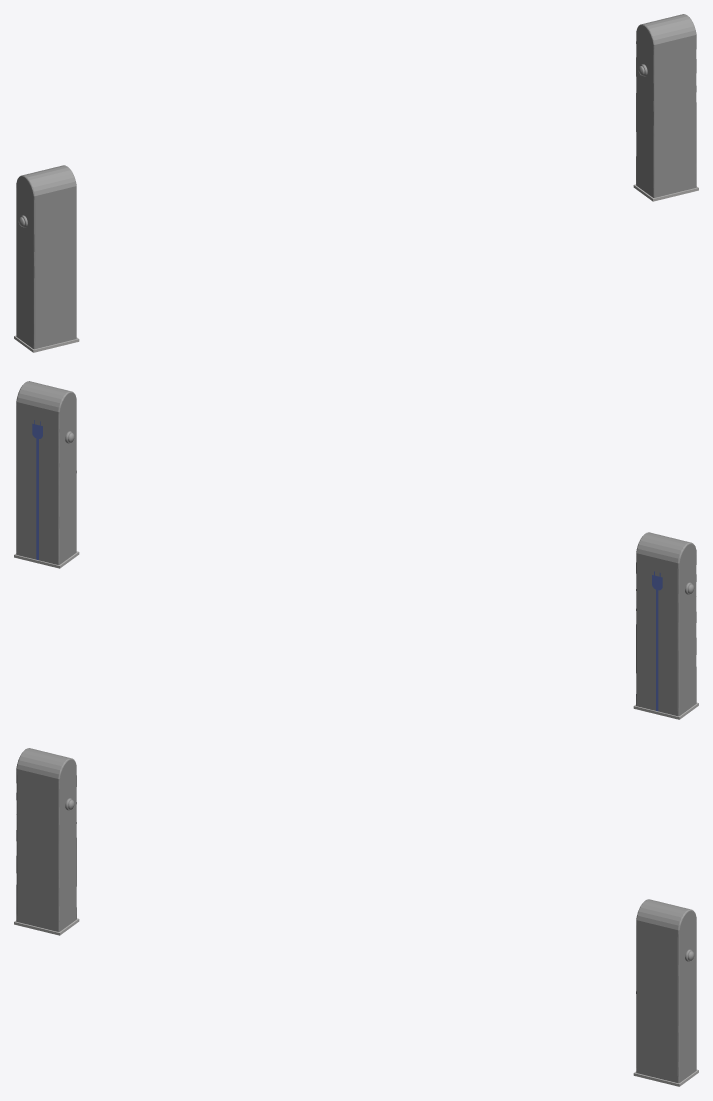
3 renders of one model, top to bottom at view 1: azimuth 30°, elevation 25°; view 2: azimuth 150°, elevation 25°; view 3: azimuth 330°, elevation 25°, orthographic.
Size of the model in its own units: 5.43 by 1.3 by 0.272.
